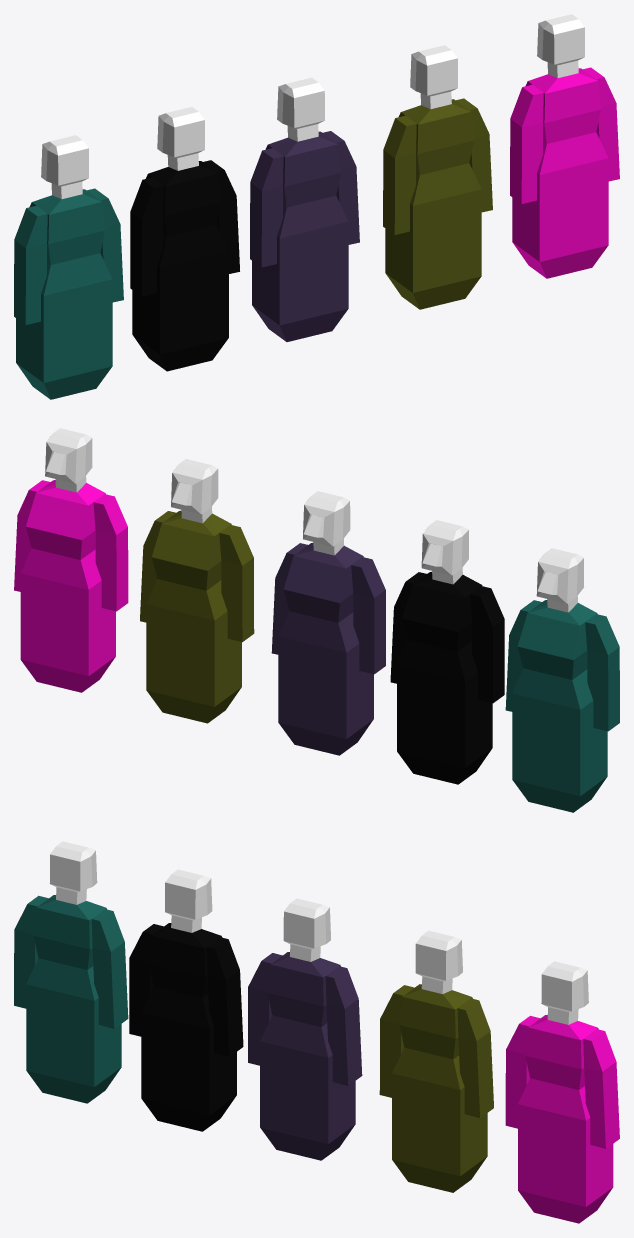
The model's file is villagers.fbx.
3 renders of one model, top to bottom at view 1: azimuth 30°, elevation 25°; view 2: azimuth 150°, elevation 25°; view 3: azimuth 330°, elevation 25°, orthographic.
Parts seen in each view (by area): view 1: epiphany, barbiefany, eepy, tobifany, bobifany; view 2: barbiefany, epiphany, tobifany, bobifany, eepy; view 3: barbiefany, tobifany, bobifany, epiphany, eepy.
Part boxes in pixels (box(x1,y1,x2,y2)): epiphany: box(383, 45, 492, 309); barbiefany: box(510, 14, 619, 278); eepy: box(14, 135, 123, 399); tobifany: box(130, 107, 239, 371); bobifany: box(250, 77, 359, 341); barbiefany: box(14, 428, 128, 692); epiphany: box(140, 459, 254, 723); tobifany: box(390, 520, 504, 784); bobifany: box(271, 491, 385, 755); eepy: box(505, 548, 619, 812); barbiefany: box(505, 961, 619, 1223); tobifany: box(129, 869, 243, 1131); bobifany: box(248, 898, 362, 1160); epiphany: box(379, 930, 493, 1192); eepy: box(14, 841, 128, 1103).
Size of the model in its own units: 1365 by 543 by 116.
